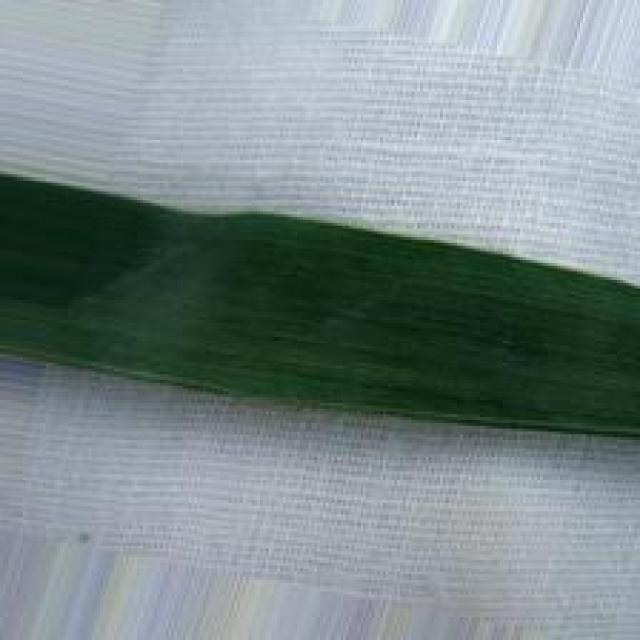Healthy: (0, 171, 640, 444)
